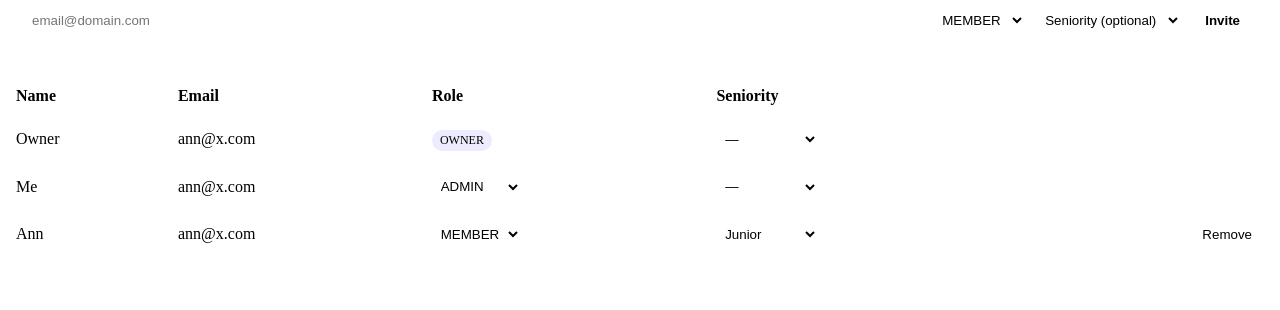
Scenario: MembersPanel › clears seniority (empty value -> null) and shows error on failure
This screenshot has width=1280, height=310.
Select "—" in the 7th dropdown at (767, 234), box top-left (716, 221), bottom-right (818, 248)
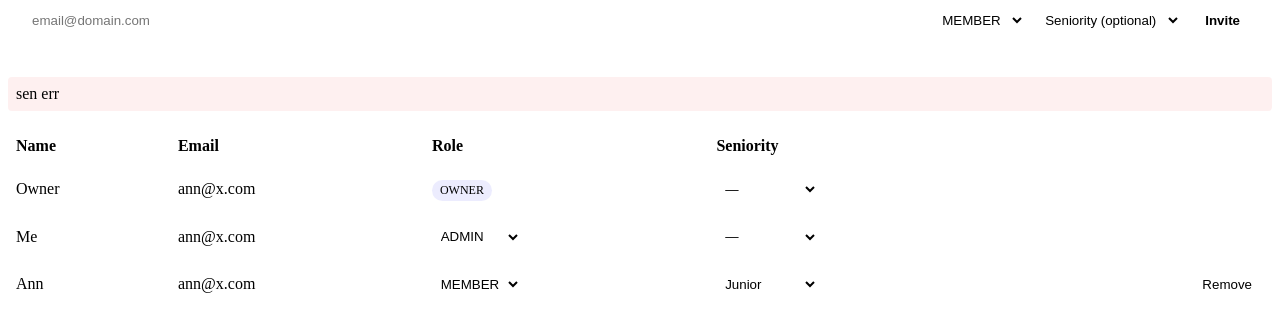
Now the text "sen err" is shown, box top-left (8, 77), bottom-right (1272, 111)
